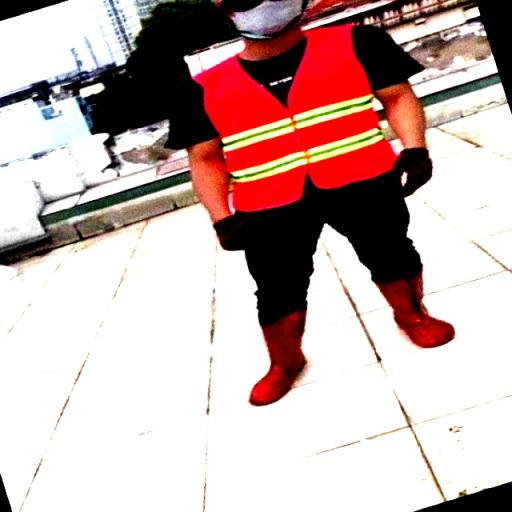Person: (146, 1, 464, 438)
boots: (230, 302, 316, 419), (372, 263, 460, 353)
gloves: (380, 144, 434, 196), (208, 212, 260, 254)
goggles: (218, 0, 280, 13)
vest: (158, 20, 405, 215)
